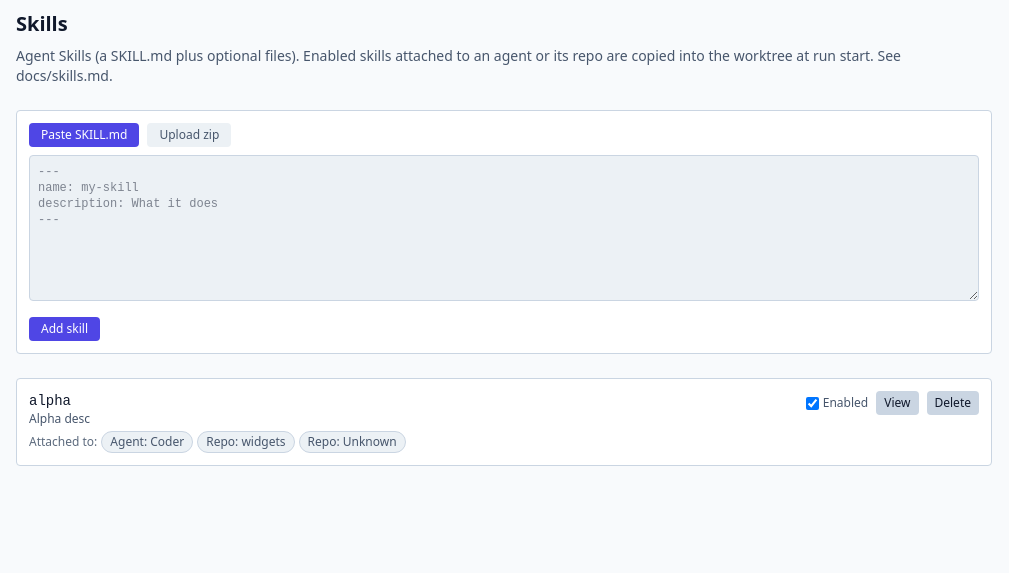
Scenario: SkillsSettingsPage › pastes SKILL.md and shows server errors
expect the text "alpha" is shown: met, box [29, 393, 71, 409]
In the text box named "SKILL.md contents": [504, 228] box [29, 155, 979, 301], type "hello"
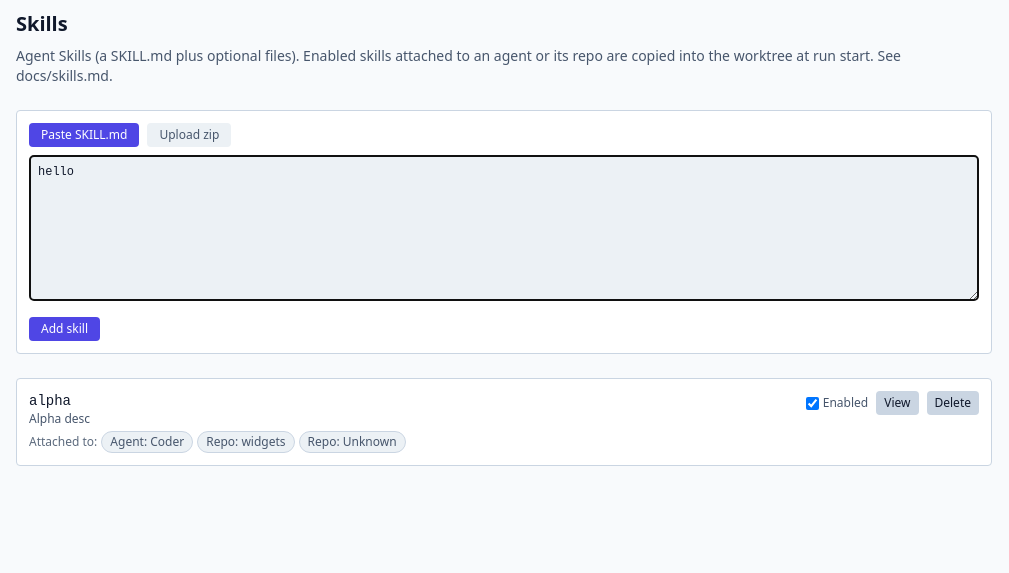
Click the button "Add skill": [64, 329] box [29, 317, 100, 341]
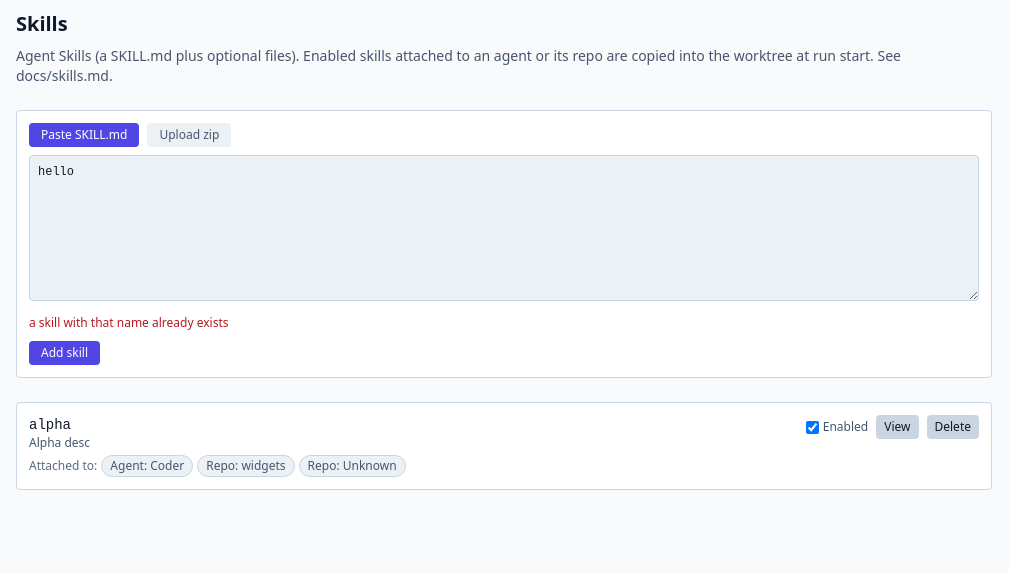
expect the text "a skill with that name already exists" is shown: met, box [29, 314, 228, 331]
Click the button "Add skill": [64, 353] box [29, 341, 100, 365]
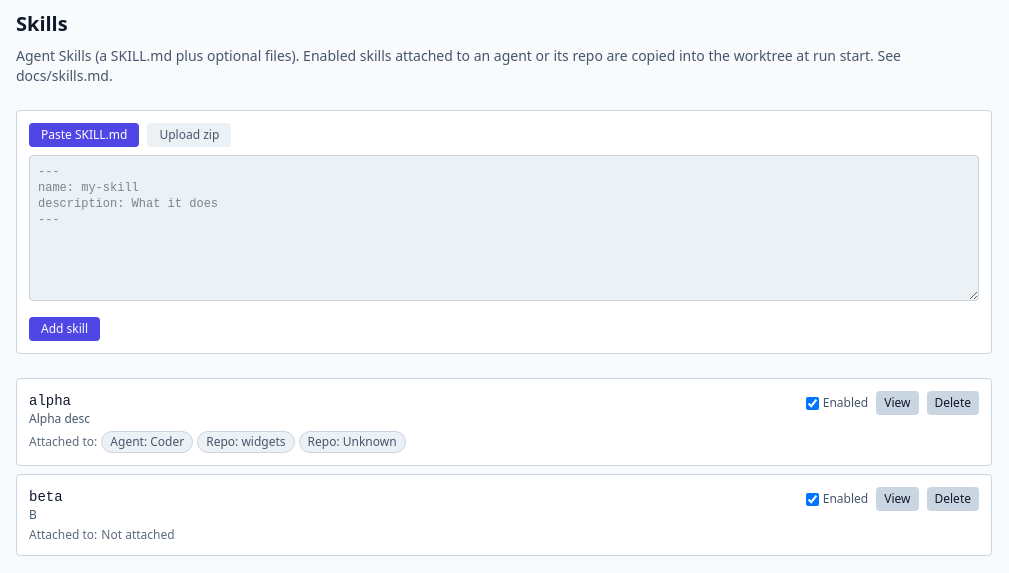
expect the text "beta" is shown: met, box [29, 489, 63, 505]
